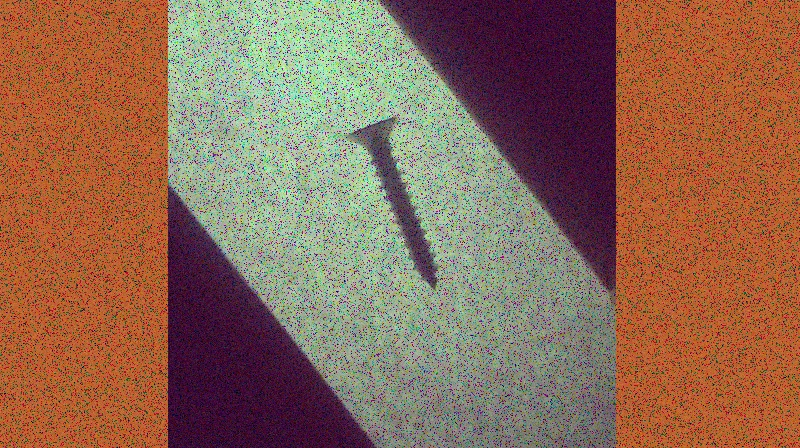S001: (341, 113, 441, 296)
